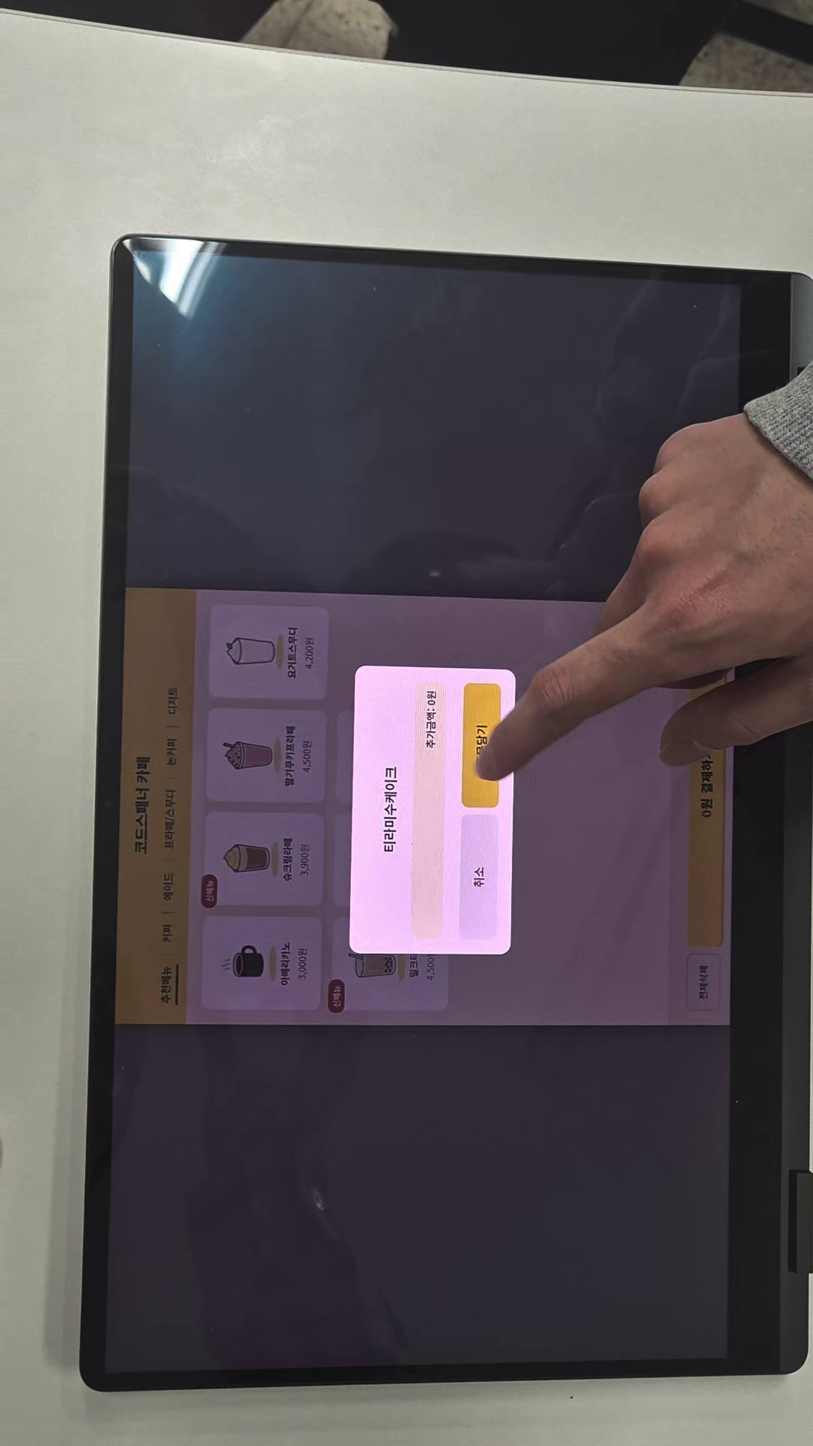action_button: (459, 813, 498, 939), (463, 685, 502, 810)
popup_modal: (351, 665, 515, 953)
